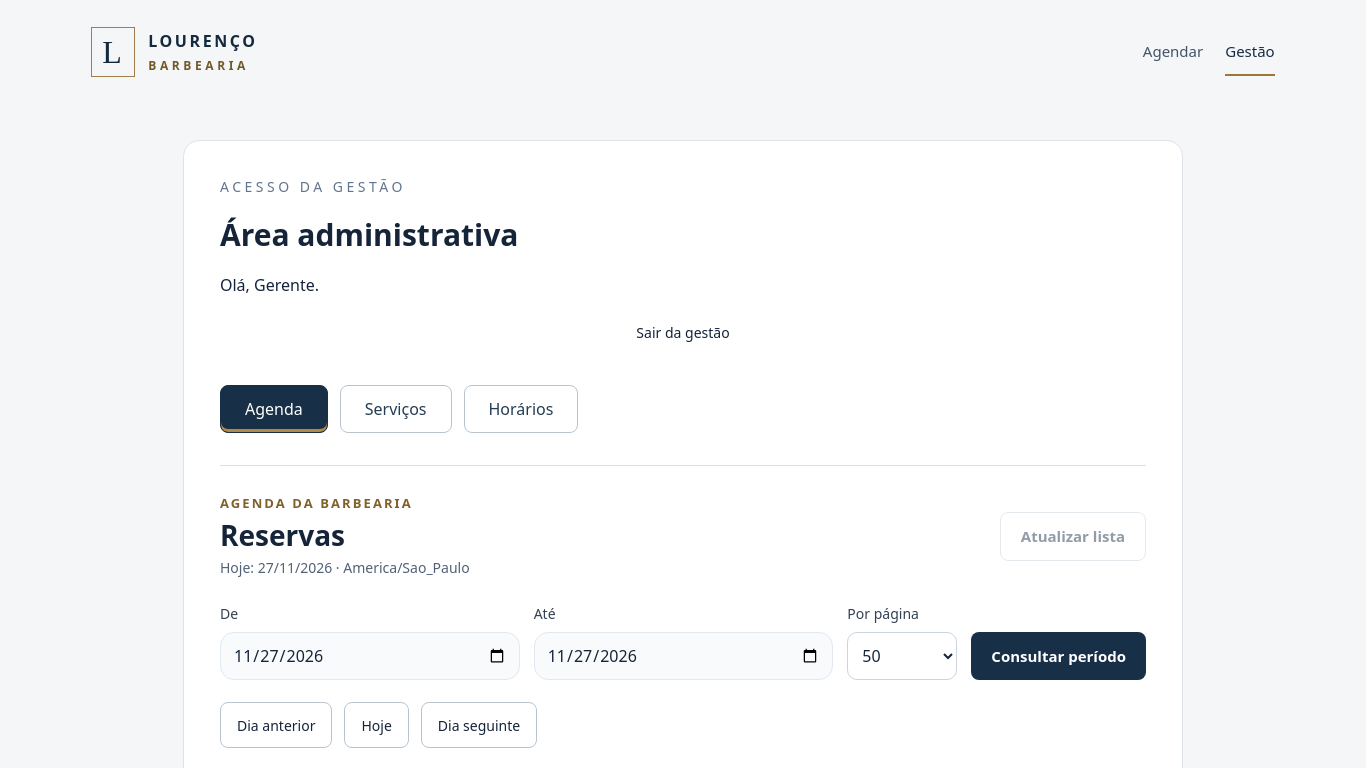
Scenario: lists active and inactive services, price and duration
Click the button "Serviços": (396, 409) [340,385,452,433]
(page scrolled)
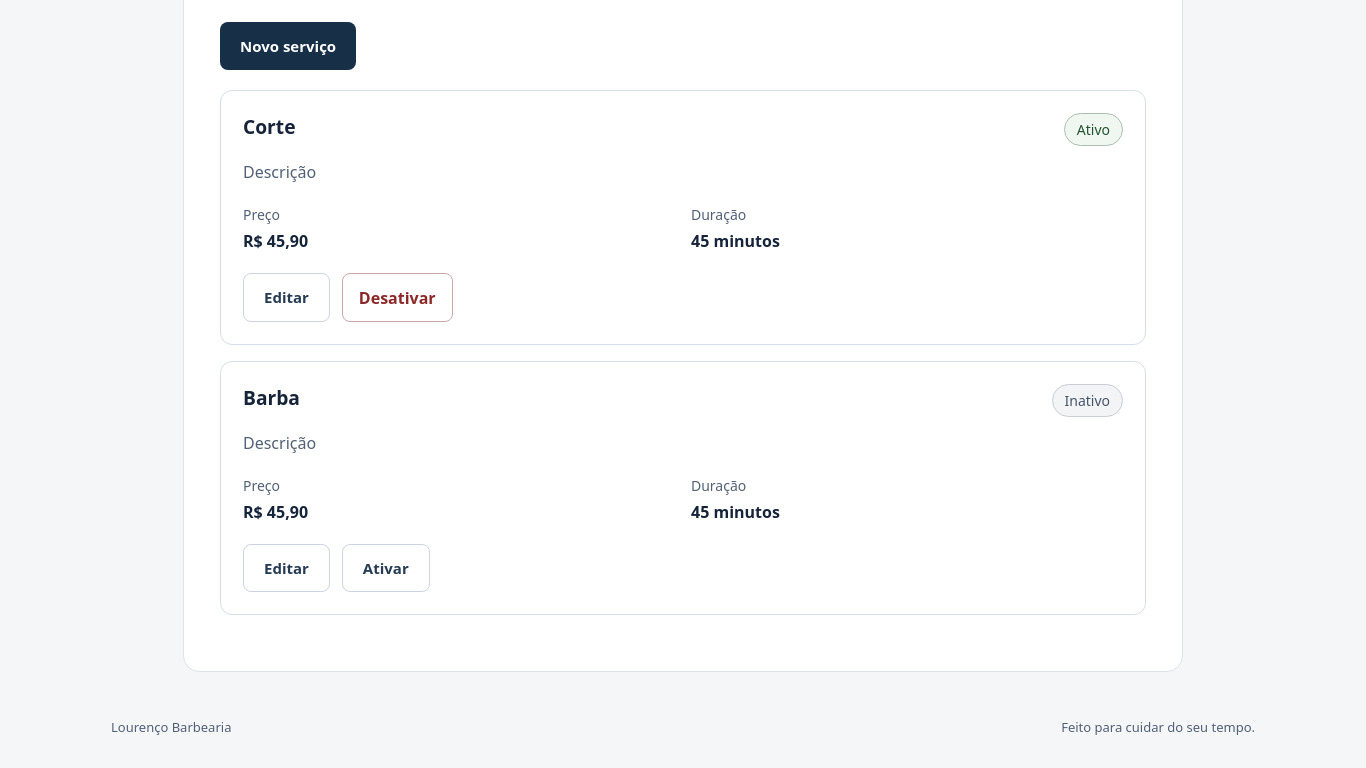
Result: the button with aria-label "Editar serviço Corte" is shown at [243,273,330,322]
Result: the text "Ativo" is shown at [1064,113,1123,146]
Result: the text "Inativo" is shown at [1052,384,1123,417]
